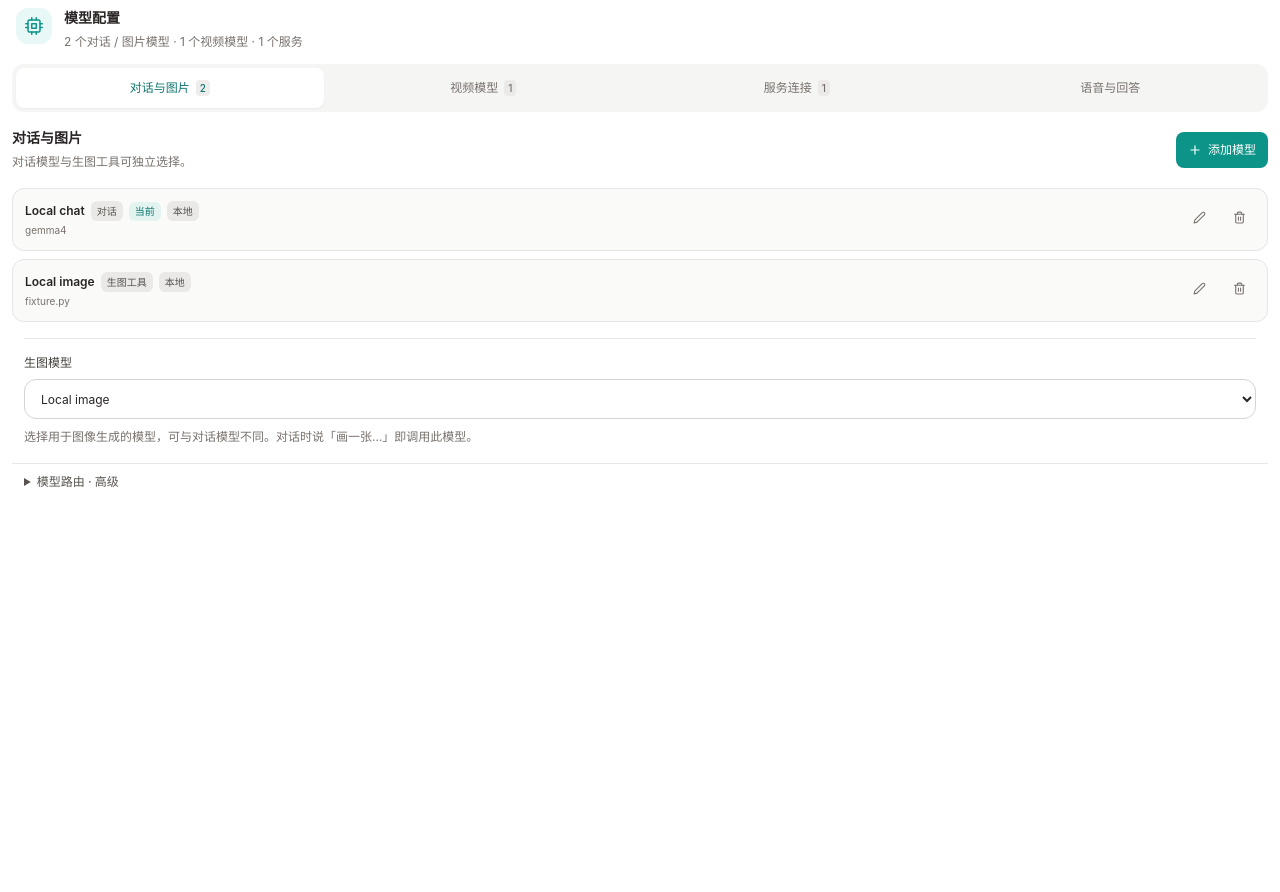
unified model settings › keeps a model draft across tabs and saves the retained edits
Click the button named "编辑" in the row of "当前" at (1199, 217), box [1183,201,1215,233]
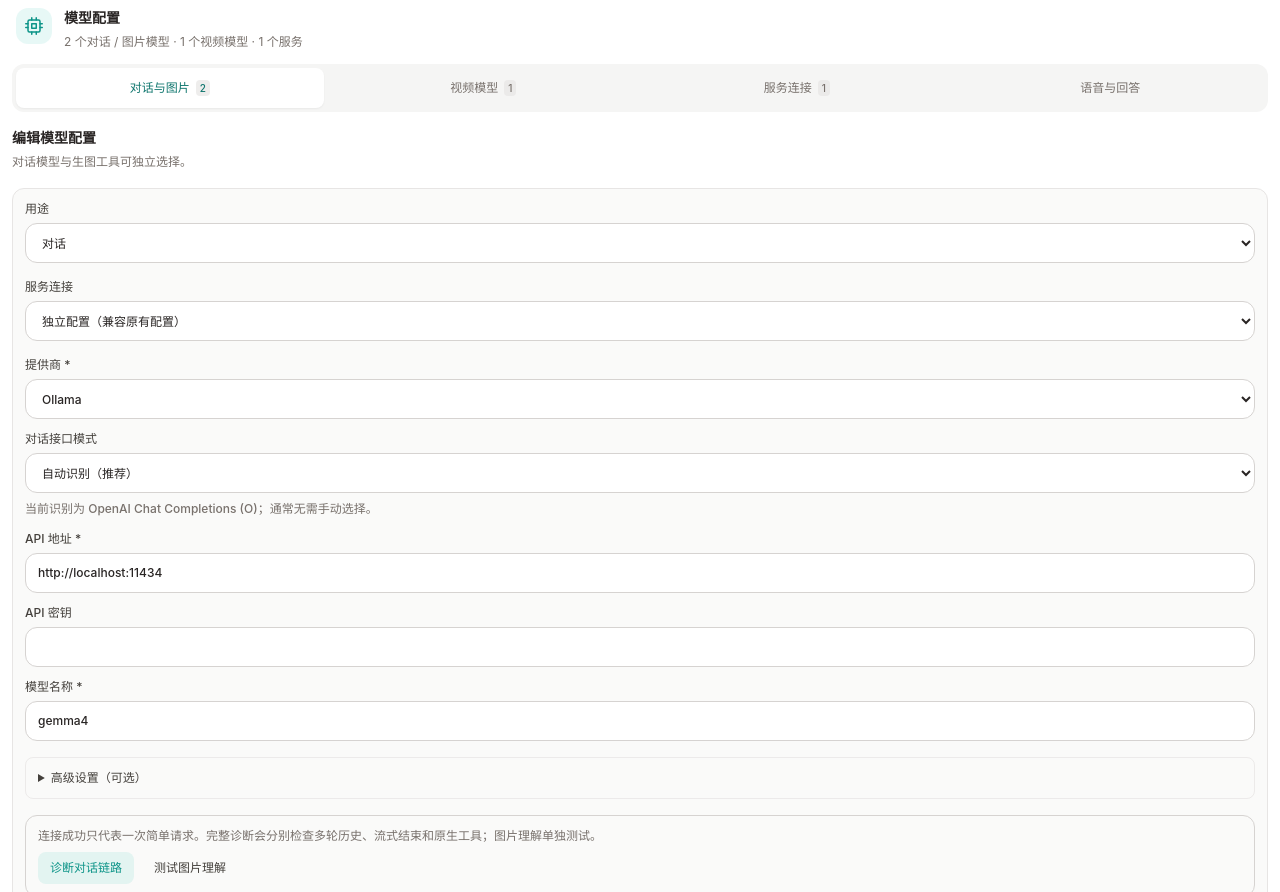
Replace the text in the field with placeholder "服务提供的模型名称" with "gemma-draft" at (640, 720), box [25,700,1255,740]
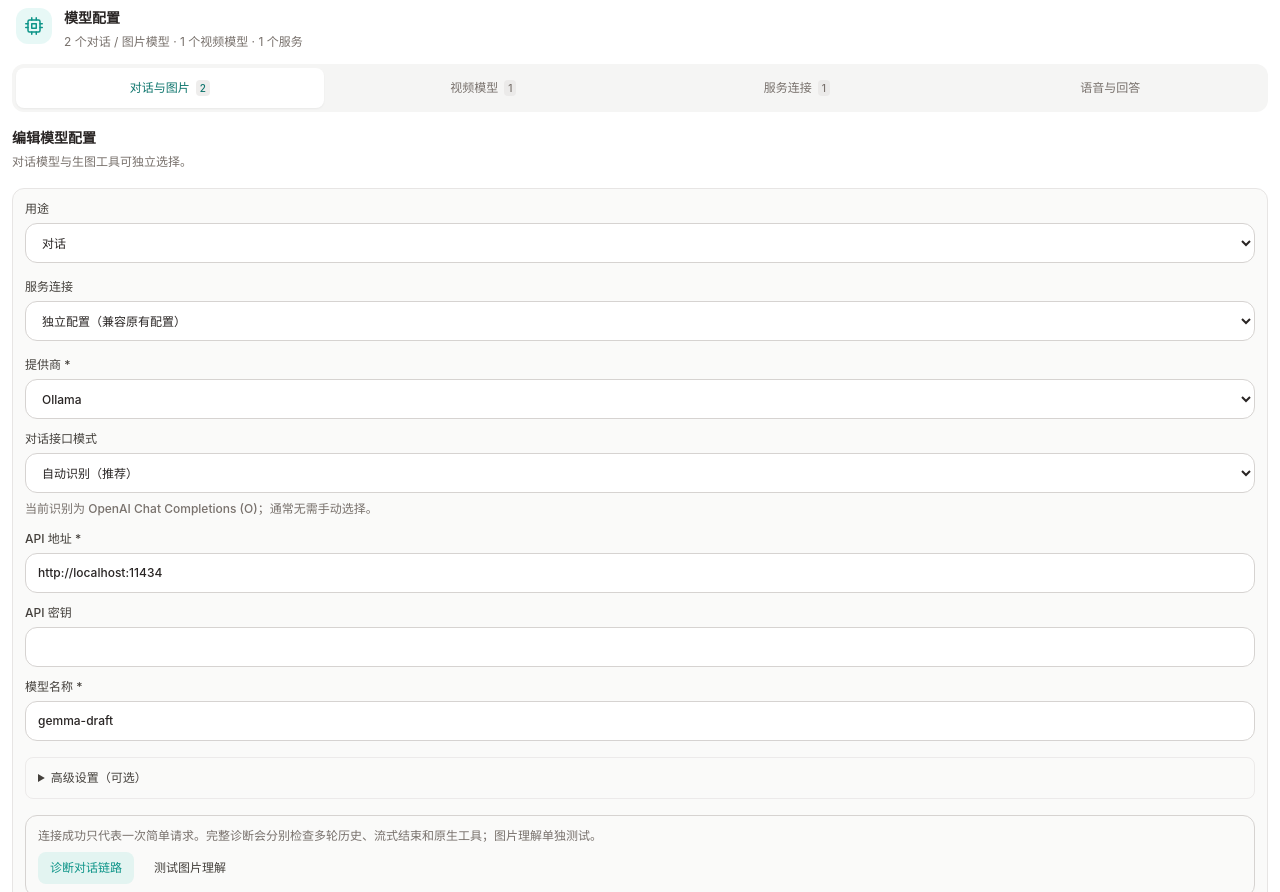
Click the tab "服务连接 1" at (797, 88), box [643,68,950,108]
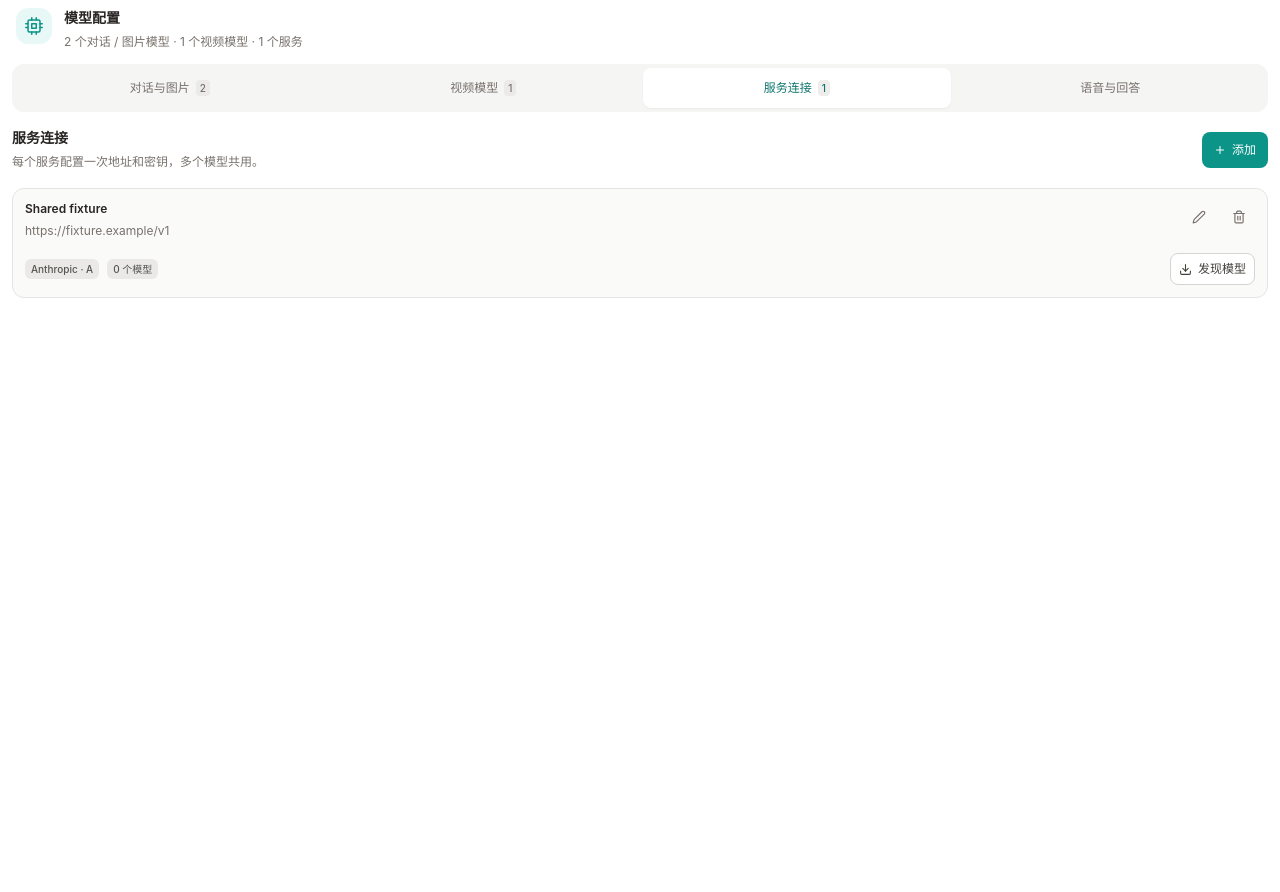
Click the tab "对话与图片 2" at (170, 88), box [16,68,324,108]
(page scrolled)
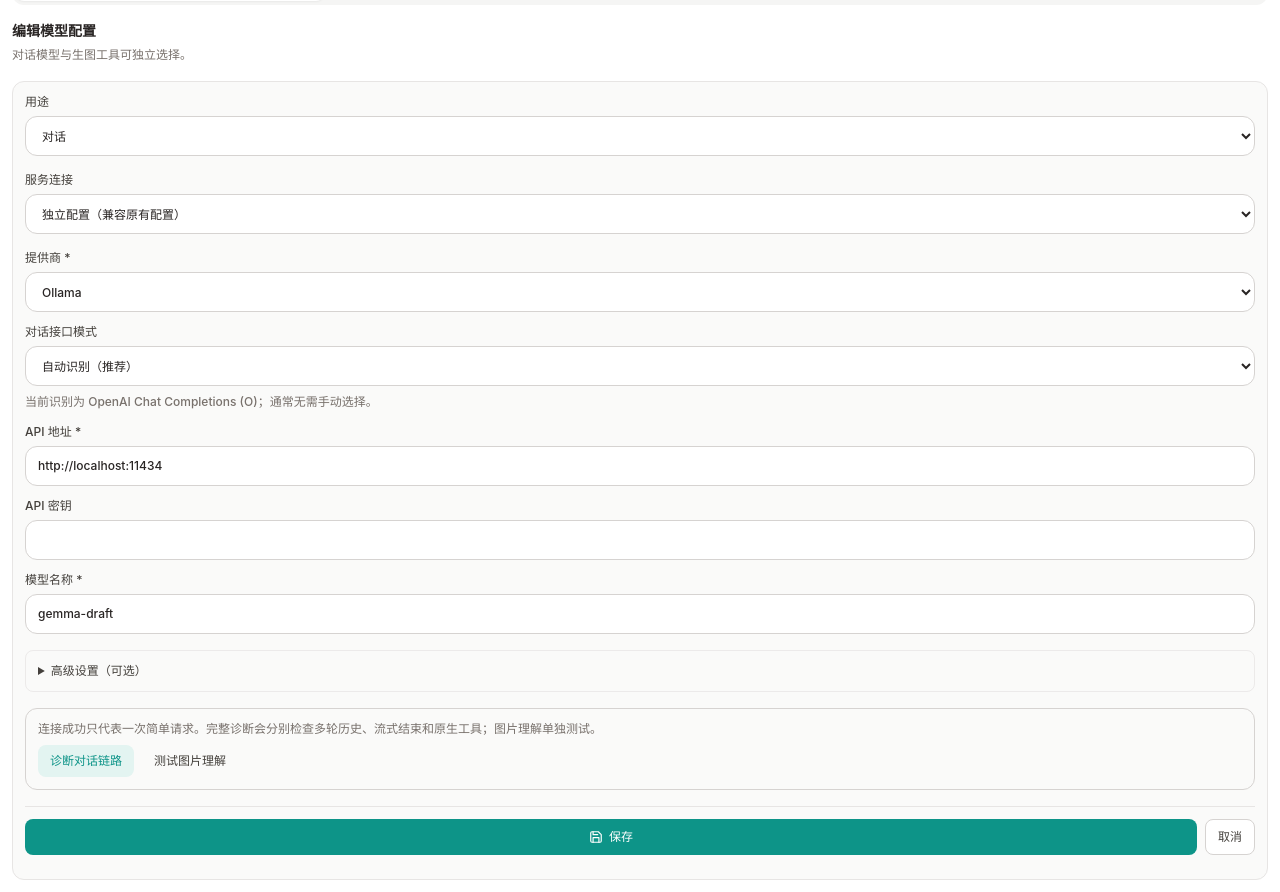
Click the button "保存" at (611, 836), box [25,818,1197,854]
(page scrolled)
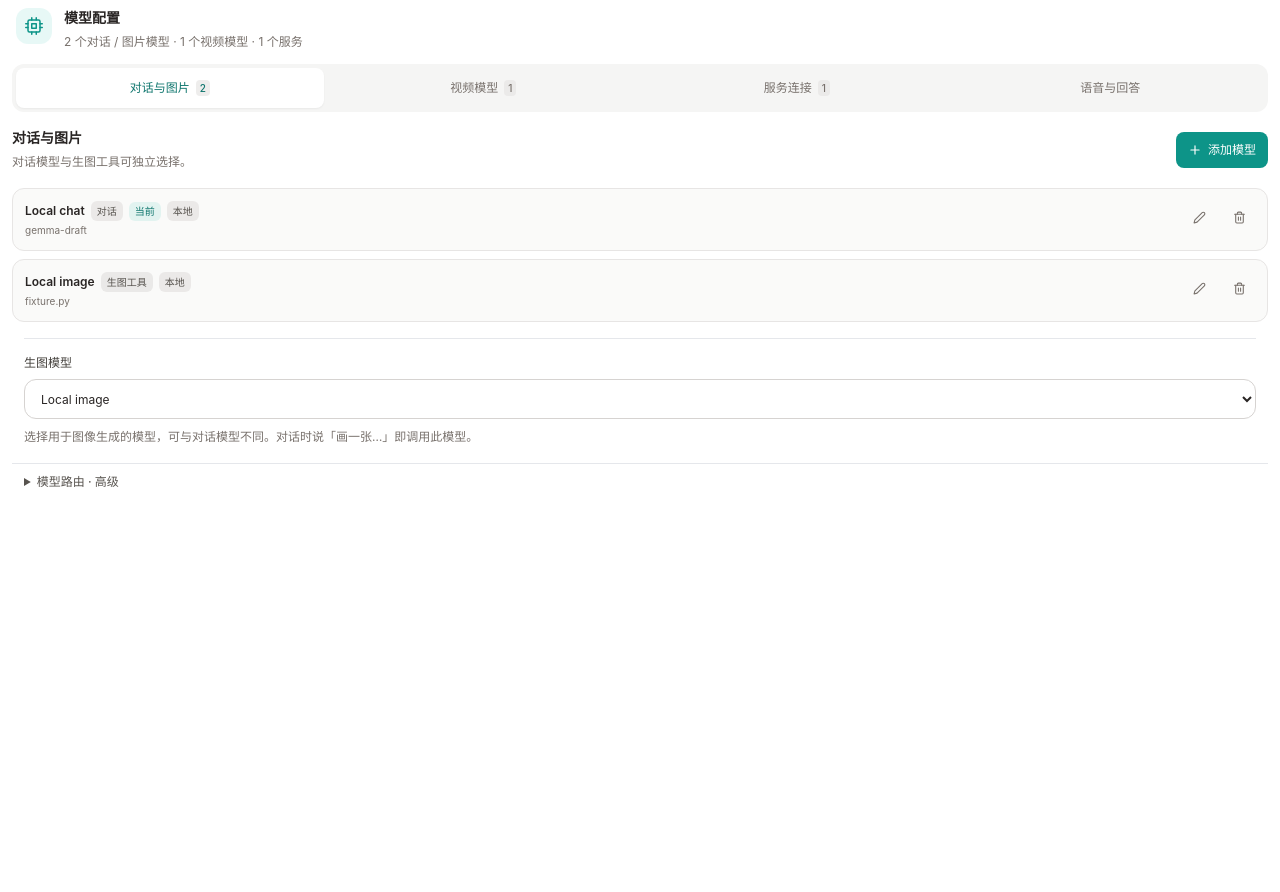
Expected: the text "gemma-draft" is shown, [25,224,87,236]
